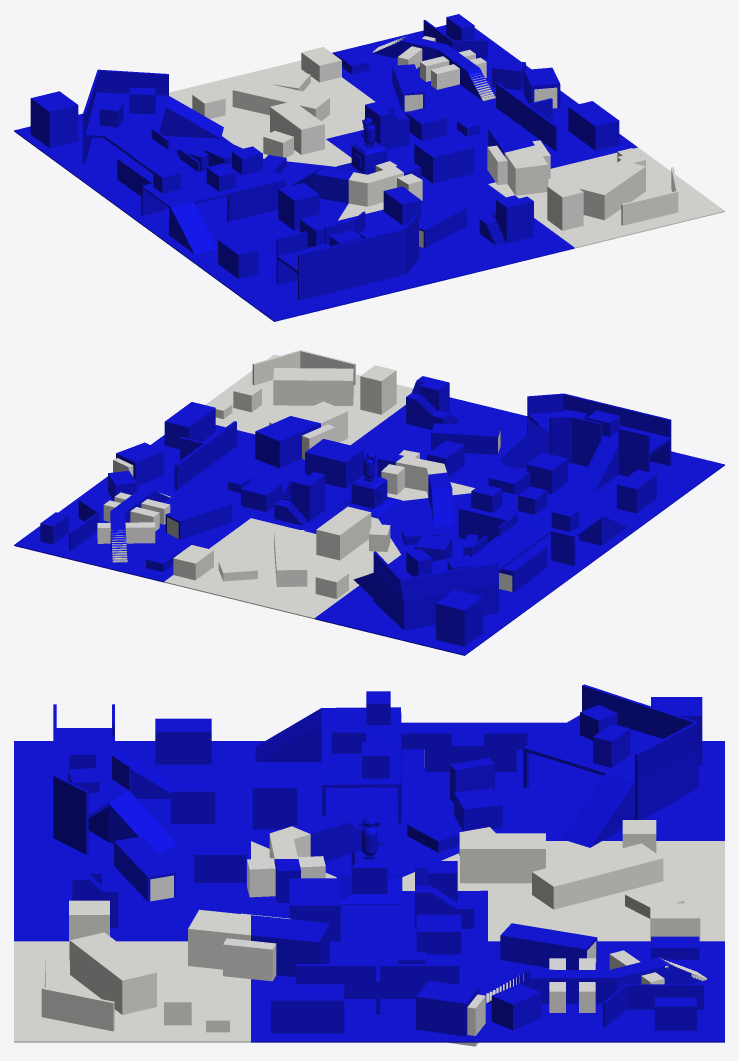
File: map2.fbx
3 renders of one model, top to bottom at view 1: azimuth 30°, elevation 25°; view 2: azimuth 150°, elevation 25°; view 3: azimuth 270°, elevation 25°, orthographic. The views are drawn at different scales.
Parts seen in each view (by area): view 1: Куб.031, Куб.049, Area1.007, Area1.006, Area1.001, Area1.008, Area1.004, Area1.003, Area1.005, Area1.002, Area1, Куб.051 (+41 smaller); view 2: Куб.031, Куб.049, Area1.001, Area1.005, Area1.007, Area1.004, Area1, Area1.008, Area1.003, Area1.006, Куб.020, Куб.053 (+44 smaller); view 3: Куб.031, Area1.006, Area1.007, Area1.001, Area1, Area1.008, Area1.005, Куб.049, Area1.004, Area1.002, Area1.003, Куб.020 (+48 smaller).
Part boxes in pixels (bbox=[...]): Куб.031: bbox=[82, 69, 286, 253]; Куб.049: bbox=[276, 211, 418, 300]; Area1.007: bbox=[338, 184, 574, 285]; Area1.006: bbox=[488, 147, 724, 248]; Area1.001: bbox=[169, 60, 375, 154]; Area1.008: bbox=[187, 221, 424, 321]; Area1.004: bbox=[428, 90, 637, 183]; Area1.003: bbox=[263, 129, 487, 220]; Area1.005: bbox=[332, 25, 530, 115]; Area1.002: bbox=[100, 183, 337, 257]; Area1: bbox=[14, 113, 232, 194]; Куб.051: bbox=[292, 161, 421, 206]; Куб.031: bbox=[353, 491, 627, 630]; Куб.049: bbox=[499, 393, 671, 491]; Area1.001: bbox=[164, 518, 400, 619]; Area1.005: bbox=[14, 481, 250, 582]; Area1.007: bbox=[351, 397, 527, 487]; Area1.004: bbox=[101, 425, 304, 517]; Area1: bbox=[314, 555, 551, 655]; Area1.008: bbox=[518, 451, 724, 528]; Area1.003: bbox=[251, 464, 474, 554]; Area1.006: bbox=[205, 354, 413, 445]; Куб.020: bbox=[255, 401, 347, 468]; Куб.053: bbox=[273, 368, 353, 405]; Куб.031: bbox=[255, 684, 698, 847]; Area1.006: bbox=[14, 941, 250, 1042]; Area1.007: bbox=[14, 841, 250, 941]; Area1.001: bbox=[488, 841, 724, 941]; Area1: bbox=[492, 741, 724, 840]; Area1.008: bbox=[14, 741, 250, 840]; Area1.005: bbox=[488, 941, 724, 1042]; Куб.049: bbox=[53, 704, 176, 854]; Area1.004: bbox=[251, 941, 487, 1042]; Area1.002: bbox=[251, 741, 463, 840]; Area1.003: bbox=[251, 841, 487, 941]; Куб.020: bbox=[188, 909, 329, 977].
Bounding box in the file's own units: 9000 × 1180 × 9000.
